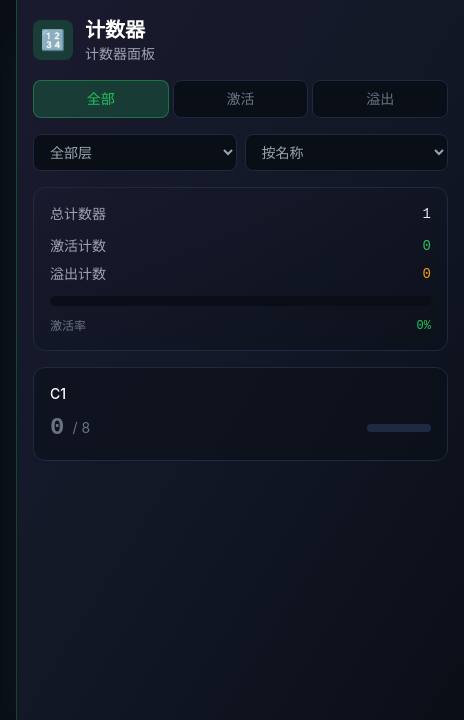
Test case: CounterPanel › Tab Filtering › shows empty state for active tab with no active counters
Click the button with test id "counter-tab-active" at (241, 99), box [173,80,308,118]
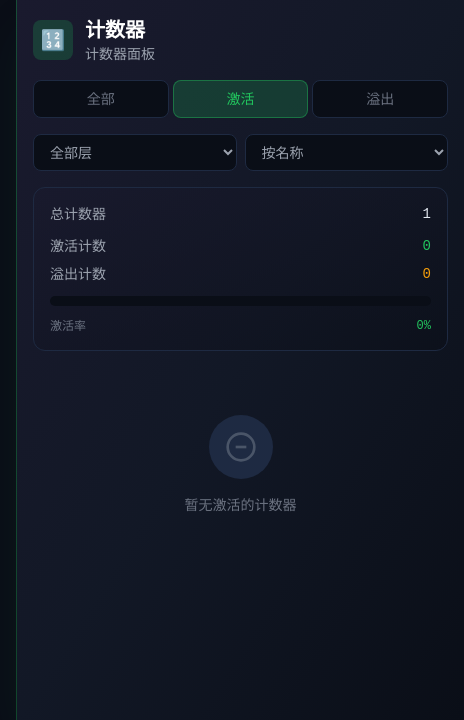
Now the element with test id "counter-empty-state" is shown, box [184,415,296,513]
Now the text "暂无激活的计数器" is shown, box [184,495,296,515]
